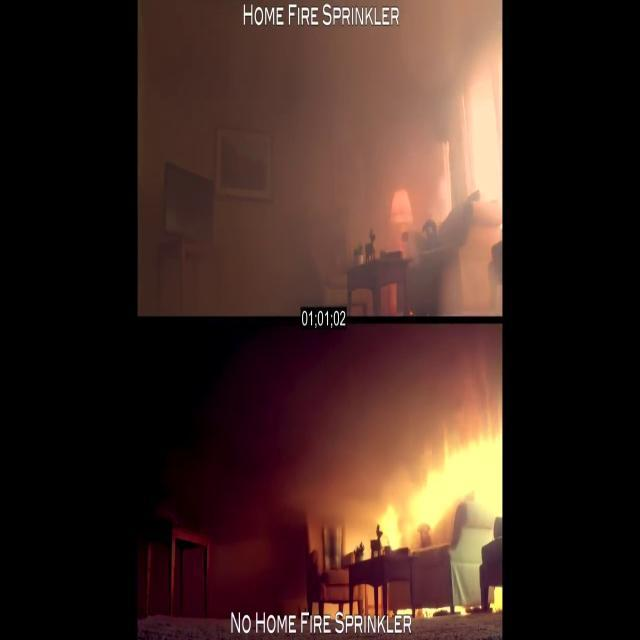Fire: (336, 408, 502, 556)
Smoke: (212, 6, 498, 309)
